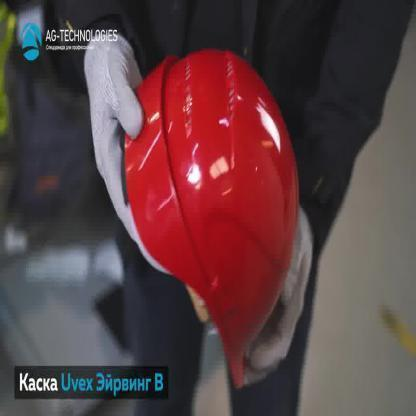gloves: (83, 34, 167, 274)
goggles: (240, 204, 314, 386)
helmet: (118, 46, 301, 392)
